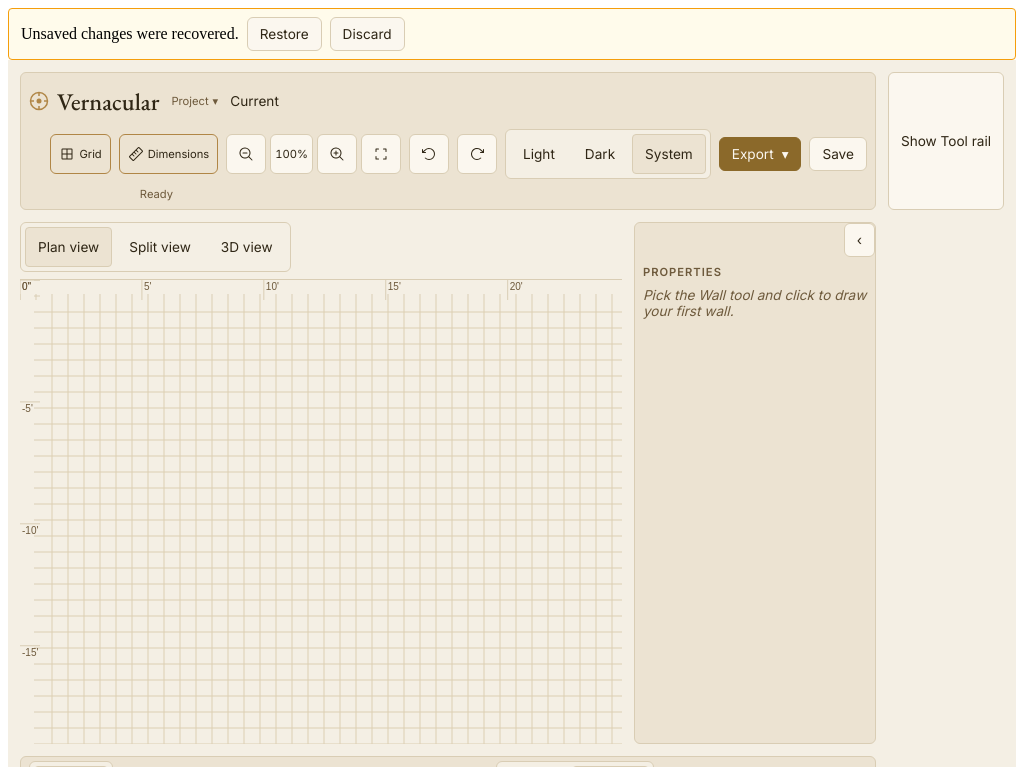
Test: App project actions › discards recovered work and dismisses the prompt when Discard is clicked
Expected: the message "Unsaved changes were recovered. Restore Discard" is shown, [8,8,1016,60]
Click the button "Discard". click: (367, 34)
box: [330,17,405,51]
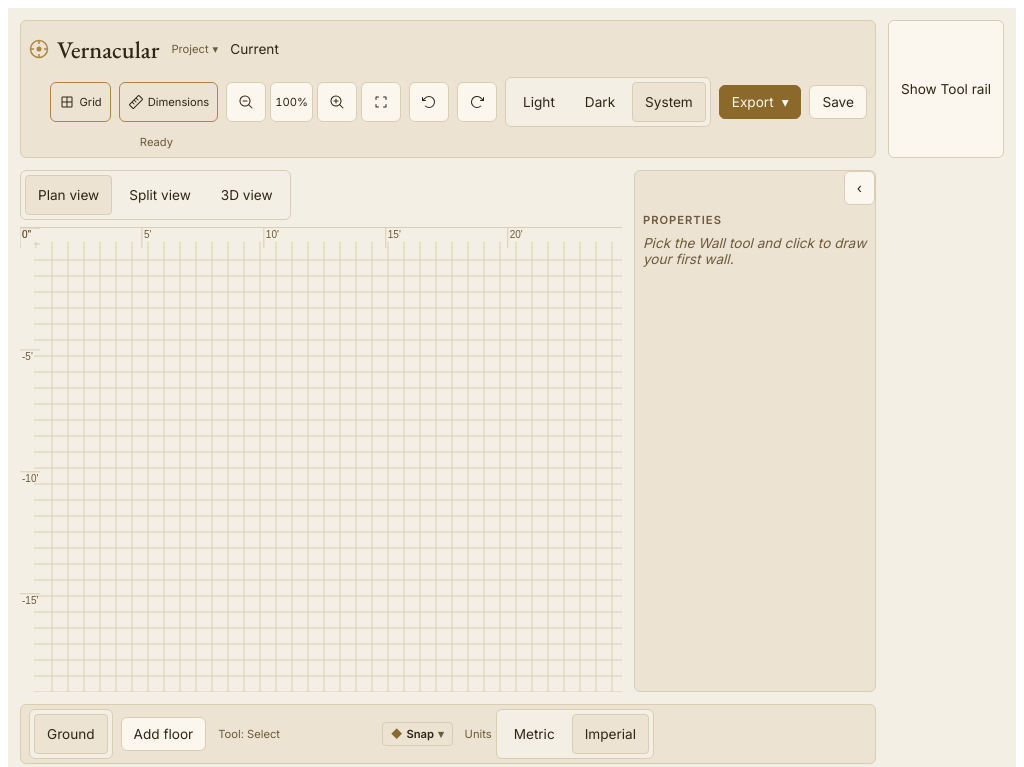
Now the message "Unsaved changes were recovered. Restore Discard" is gone
